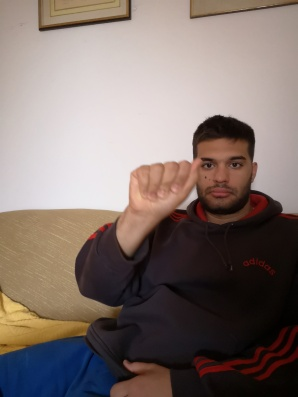A: (127, 157, 205, 215)
